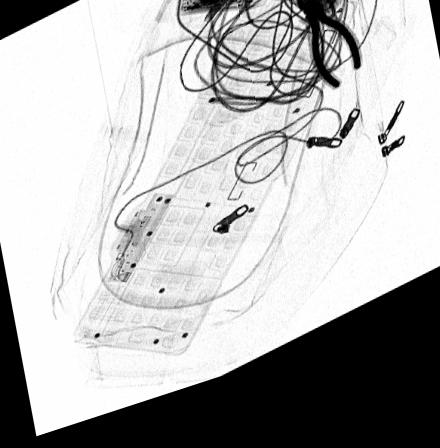Pliers: (289, 0, 360, 110)
